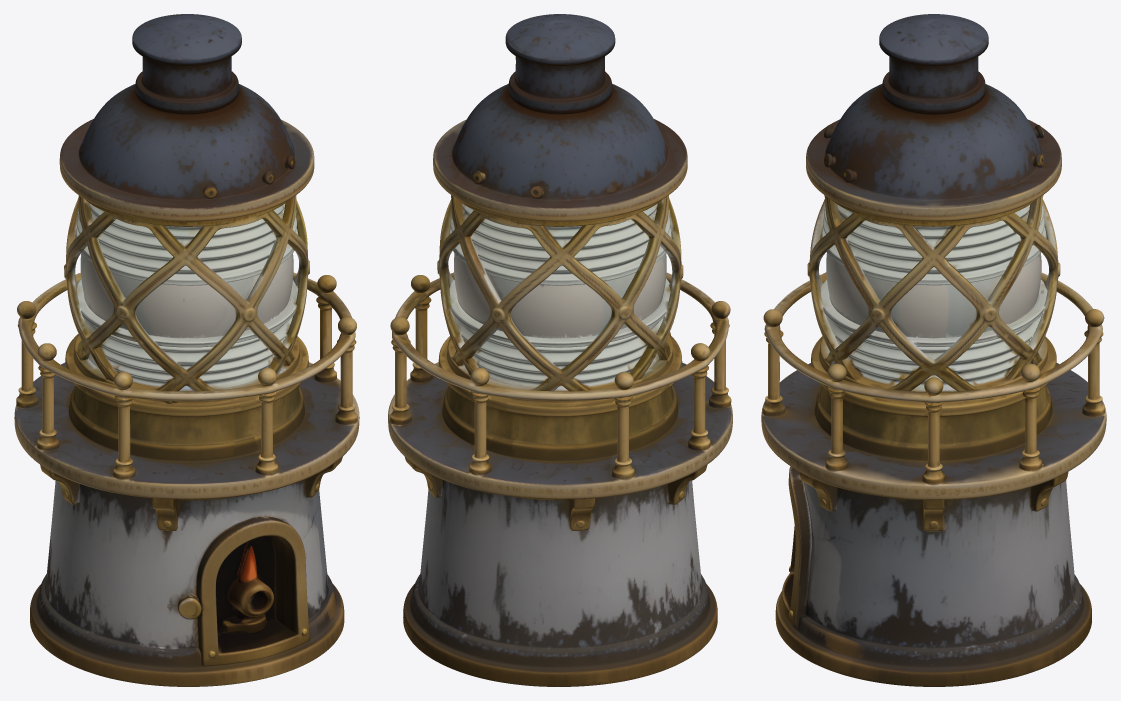
The model's file is lhi_arc_lamp.glb.
3 views of the same model, side by side, from view 1: azimuth 30°, elevation 25°; view 2: azimuth 150°, elevation 25°; view 3: azimuth 270°, elevation 25° (orthographic).
Visible parts, largest first — view 1: material; view 2: material; view 3: material.
Boxes of the visible parts, x1=… form: material: x1=14, y1=14, x2=359, y2=686; material: x1=388, y1=14, x2=732, y2=686; material: x1=761, y1=14, x2=1106, y2=686.
Bounding box in the file's own units: 0.5684 × 1.08 × 0.5686.
Materials: 1 (1 with a texture image).
